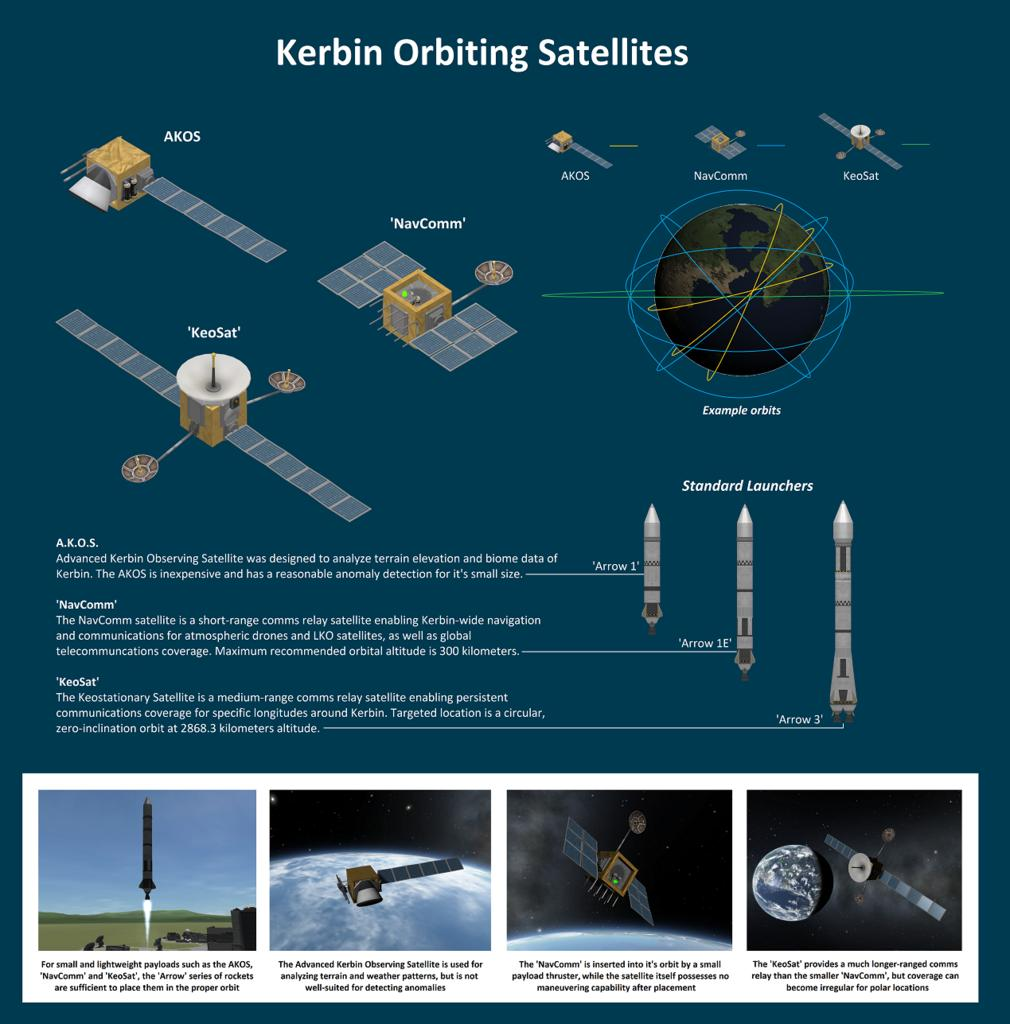antenna: (175, 352, 253, 404), (119, 452, 161, 486), (472, 259, 517, 287), (266, 366, 308, 395), (58, 156, 88, 176), (62, 165, 88, 184)
body: (381, 266, 454, 351), (85, 134, 153, 213), (178, 387, 249, 450)
solar: (224, 422, 372, 524), (143, 174, 288, 265), (54, 306, 182, 409), (408, 300, 520, 373), (316, 239, 429, 310)
